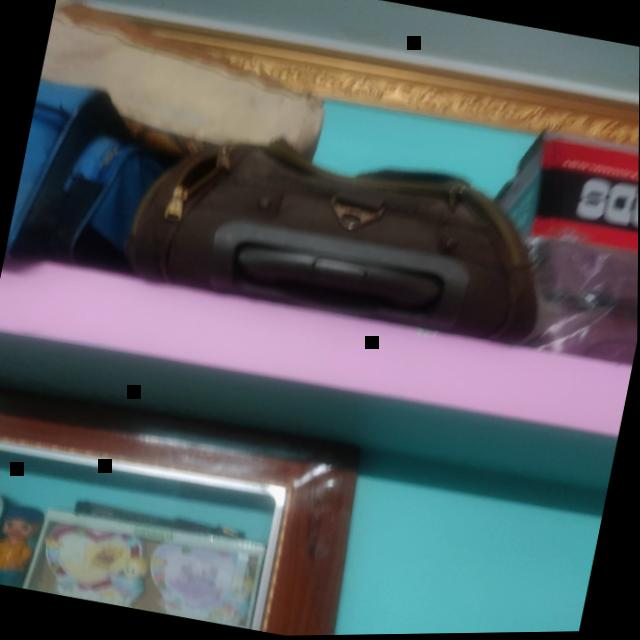luggage: (116, 112, 569, 358)
